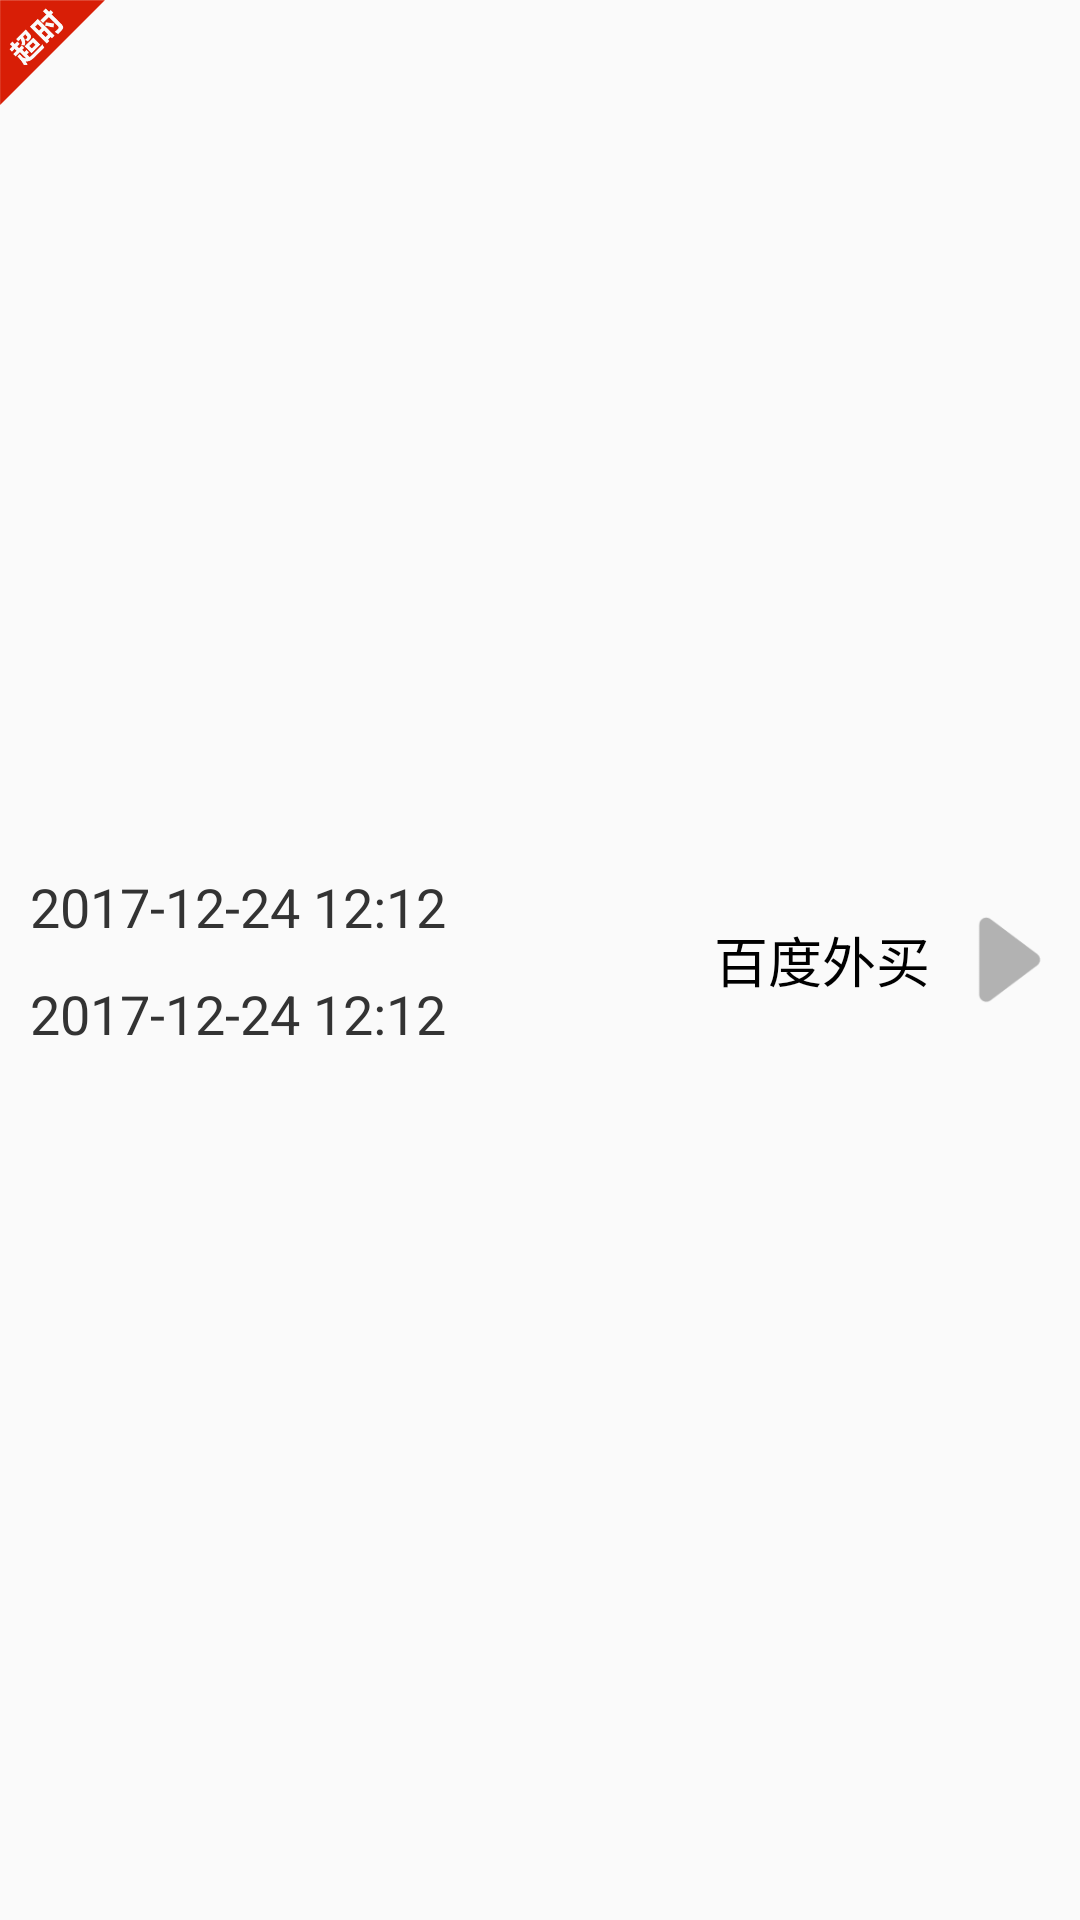

Screen size 1080px×1920px. Icon name, then its box in pixels as (x1, y1, x2, y2):
right: (979, 918, 1040, 1002)
